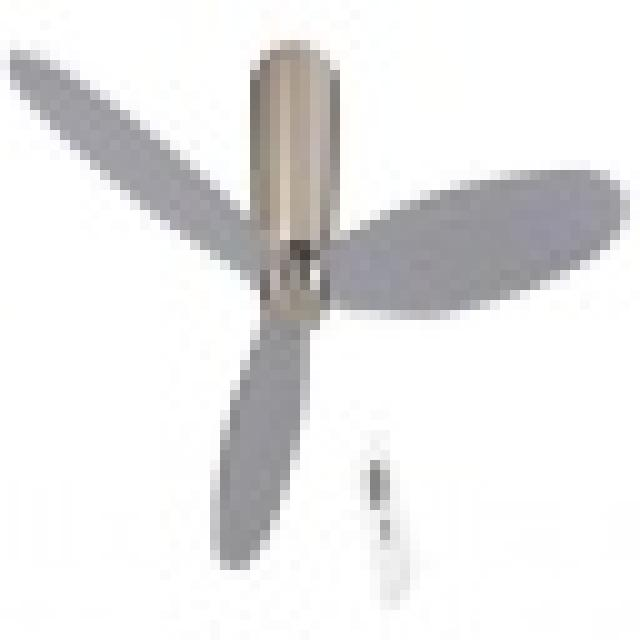Bulb: (12, 35, 626, 553)
